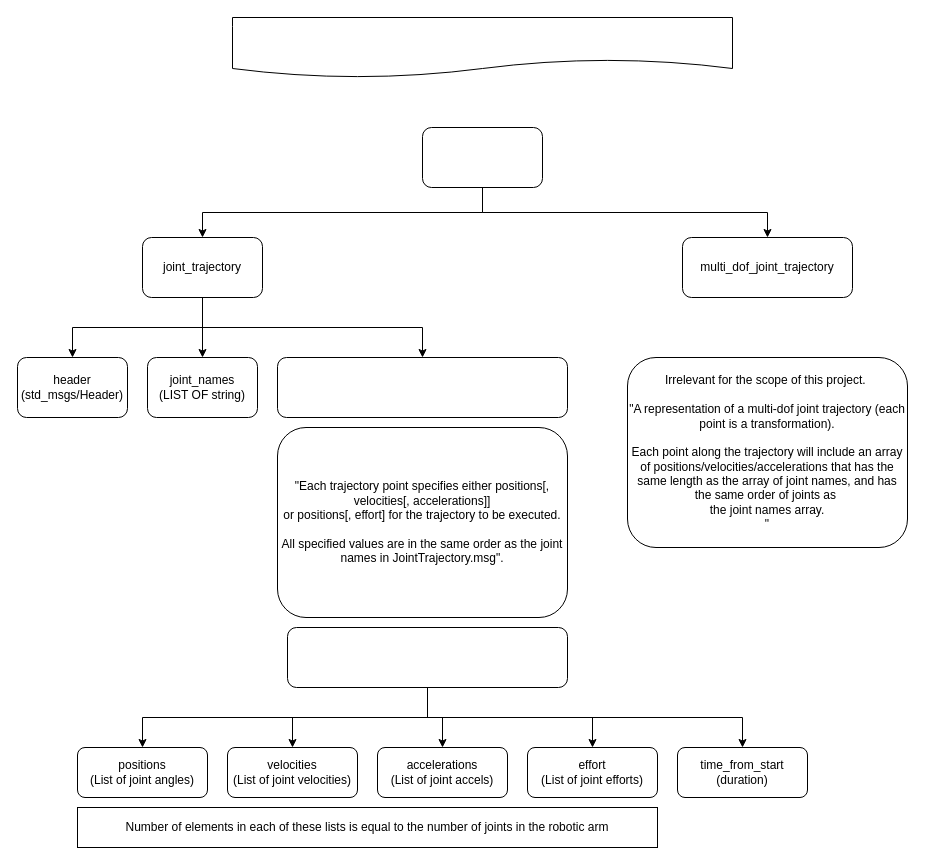
This 925x865 diagram has some shape labels left out. The centre of each missing label's shape, as x and y in pixels:
Each trajectory_msgs/JointTrajectoryPoint: (427,657)
points (LIST OF trajectory_msgs/JointTrajectoryPoint): (422,387)
RobotTrajectory Message Type: (482,157)
SOURCE: http://docs.ros.org/en/api/trajectory_msgs/html/msg/JointTrajectory.html: (482,47)
